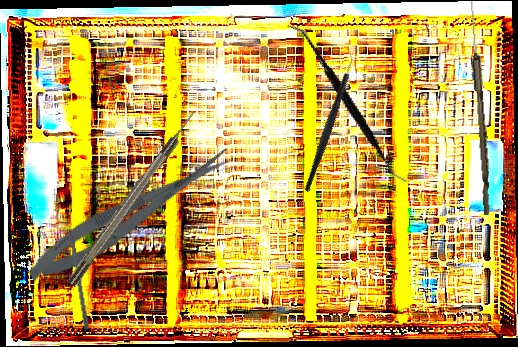Chopper: (260, 46, 396, 193)
Hook Surgical: (65, 107, 201, 288)
Micro Scissor: (19, 140, 242, 291)
Pusher: (65, 209, 91, 331)
Spatula Surgical: (248, 23, 446, 185)
Surgical Spoon: (465, 0, 495, 216)
